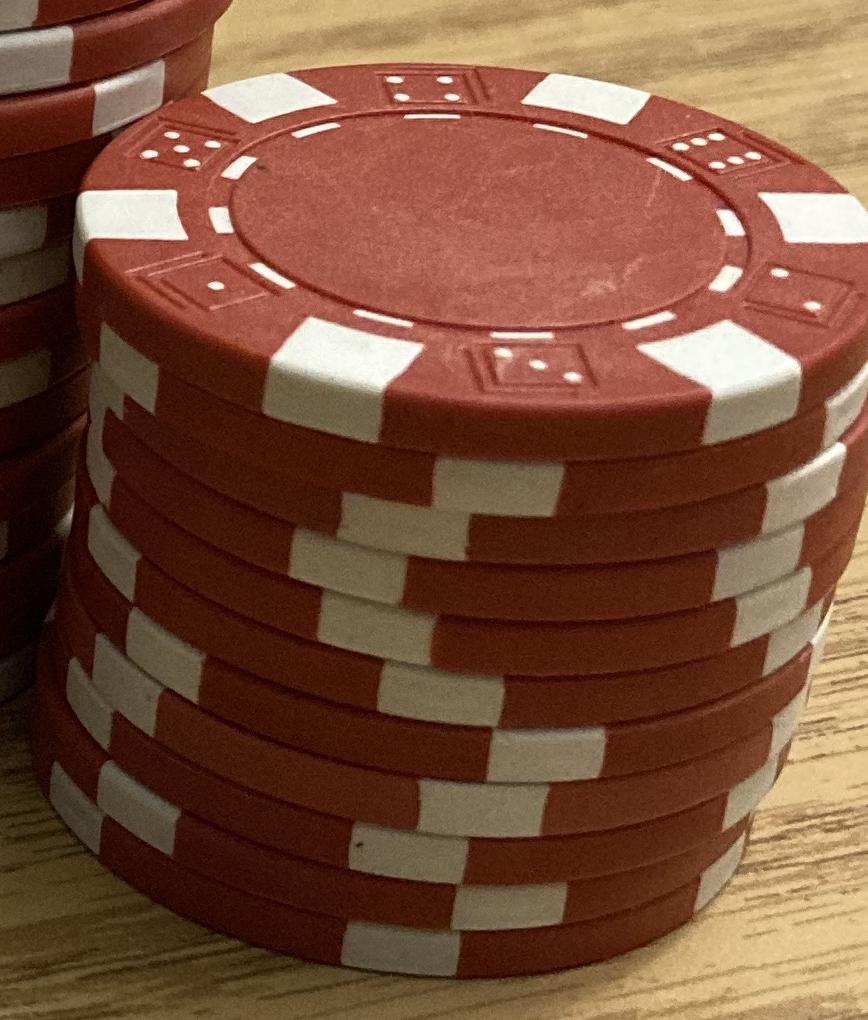Chip: (1, 1, 868, 1020)
